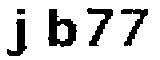7: (118, 6, 149, 51), (85, 3, 115, 49)
b: (46, 7, 78, 48)
j: (4, 5, 31, 58)
